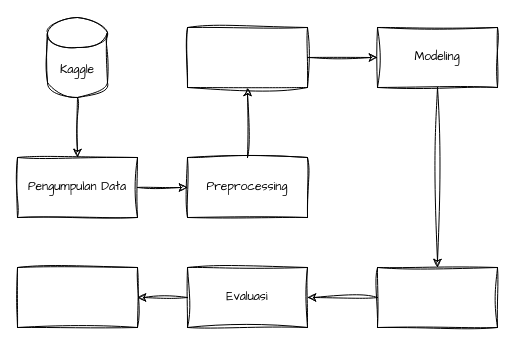
Some shapes in this 515 by 345 pixel diagram are drawn without their labels. The shapes that lost their labels are listed below. From the top down, each one's box as (x1, y1, x2, y2) in pixels, then its label:
(186, 26, 308, 88): Extraksi Fitur
(16, 266, 138, 328): Testing
(376, 266, 498, 328): Train
